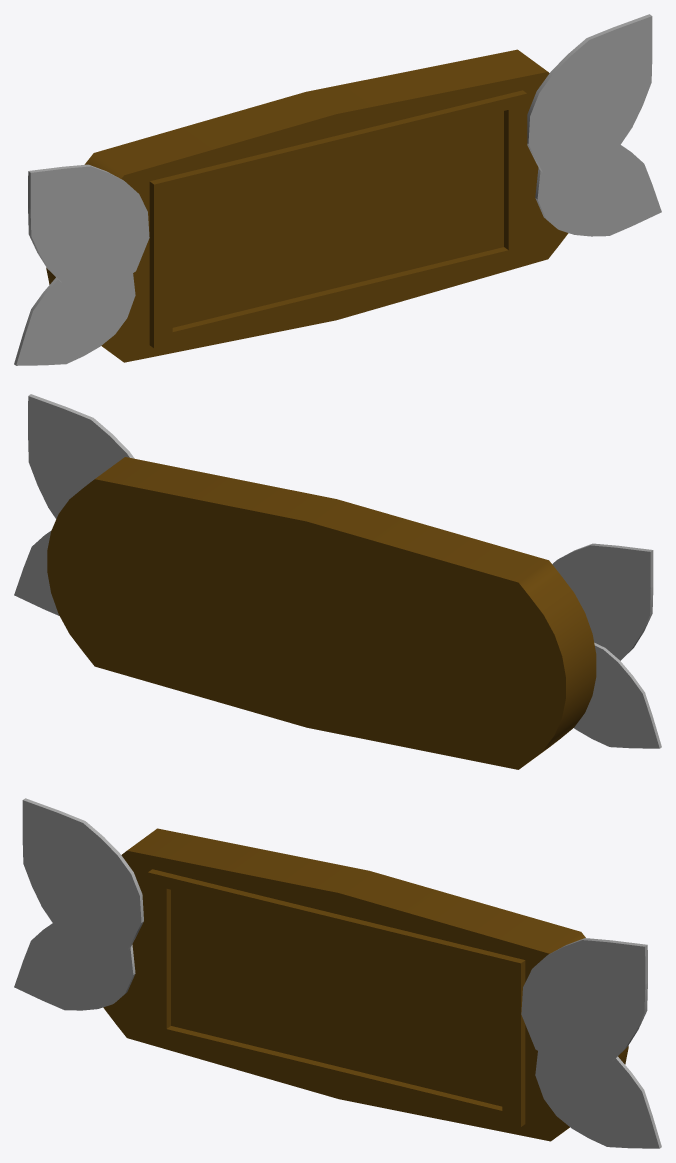
File: PlayButton 1.fbx
3 renders of one model, top to bottom at view 1: azimuth 30°, elevation 25°; view 2: azimuth 150°, elevation 25°; view 3: azimuth 330°, elevation 25°, orthographic.
Parts seen in each view (by area): view 1: Button, Leaf3, Leaf, Leaf4, Leaf2; view 2: Button, Leaf, Leaf3, Leaf2, Leaf4; view 3: Button, Leaf3, Leaf, Leaf4, Leaf2.
Boxes of the visible parts, box(x1,y1,x2,y2) form: Button: box(46, 49, 568, 362); Leaf3: box(527, 14, 652, 175); Leaf: box(28, 164, 149, 290); Leaf4: box(535, 145, 661, 236); Leaf2: box(14, 273, 135, 365); Button: box(47, 457, 596, 769); Leaf: box(552, 543, 653, 660); Leaf3: box(28, 394, 134, 518); Leaf2: box(574, 642, 661, 748); Leaf4: box(14, 530, 59, 615); Button: box(103, 828, 628, 1141); Leaf3: box(521, 938, 647, 1069); Leaf: box(22, 798, 143, 952); Leaf4: box(535, 1051, 661, 1148); Leaf2: box(14, 923, 135, 1010).
Size of the model in its own units: 20.37 by 6.99 by 1.96.
